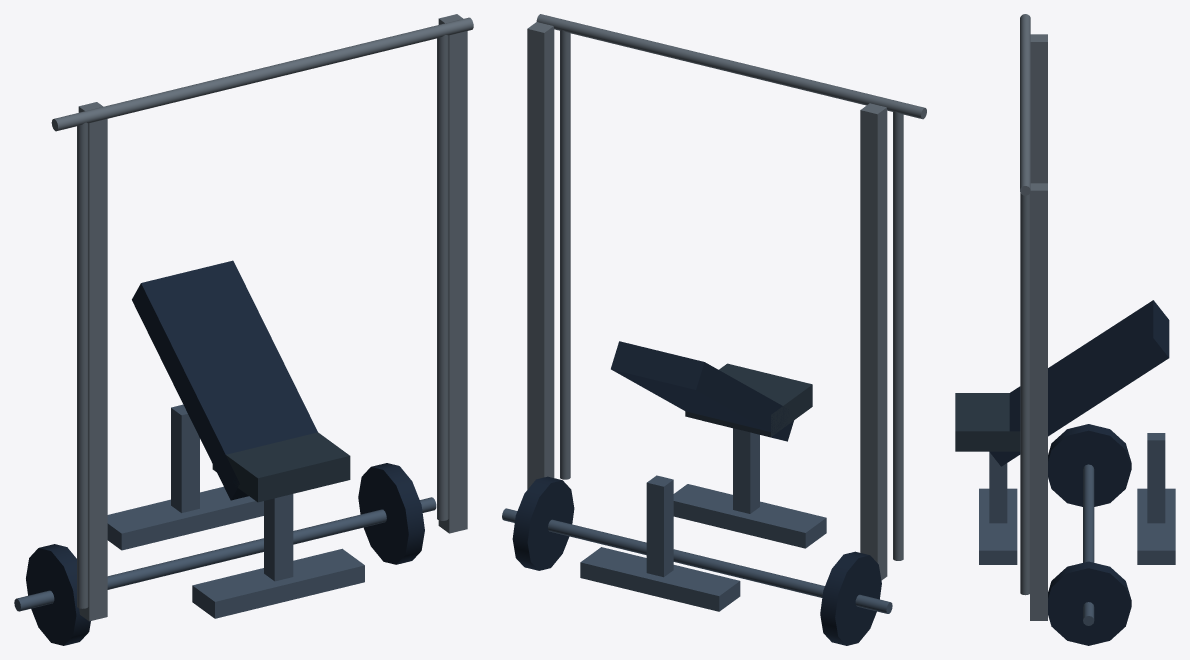
The model's file is smith_incline.glb.
The picture shows the model from 3 angles, left to right: view 1: azimuth 30°, elevation 25°; view 2: azimuth 150°, elevation 25°; view 3: azimuth 270°, elevation 25°; orthographic projection. The views are drawn at different scales.
Parts seen in each view (by area): view 1: seat, smithUpright (×2), smithGuide (×2), benchFoot (×2), barbell_plate (×2), seatPad, smithCross, benchLeg (×2), barbell; view 2: smithUpright (×2), benchFoot (×2), smithGuide (×2), barbell_plate (×2), seat, benchLeg (×2), smithCross, barbell, seatPad; view 3: smithUpright (×2), barbell_plate (×2), seat, benchFoot (×2), smithGuide, seatPad, benchLeg (×2), smithCross, barbell.
Boxes of the visible parts, x1,y1,x2,y2 form: seat: (132,260,317,500); smithUpright (×2): (78,14,467,621); smithGuide (×2): (77,35,448,608); benchFoot (×2): (107,486,364,618); barbell_plate (×2): (26,463,424,645); seatPad: (212,432,350,502); smithCross: (51,17,473,131); benchLeg (×2): (171,404,293,581); barbell: (14,497,436,611); smithUpright (×2): (527,22,887,580); benchFoot (×2): (580,484,826,611); smithGuide (×2): (560,30,903,560); barbell_plate (×2): (512,476,881,645); seat: (611,341,793,441); benchLeg (×2): (646,428,759,577); smithCross: (536,14,926,119); barbell: (502,508,892,613); seatPad: (685,363,812,437); smithUpright (×2): (1030,34,1047,620); barbell_plate (×2): (1048,424,1131,645); seat: (989,300,1169,466); benchFoot (×2): (979,488,1175,564); smithGuide: (1020,193,1029,595); seatPad: (955,393,1020,451); benchLeg (×2): (989,433,1165,523); smithCross: (1020,14,1030,195); barbell: (1083,464,1094,625).
Size of the model in its own units: 1.8 by 2.31 by 0.975.
